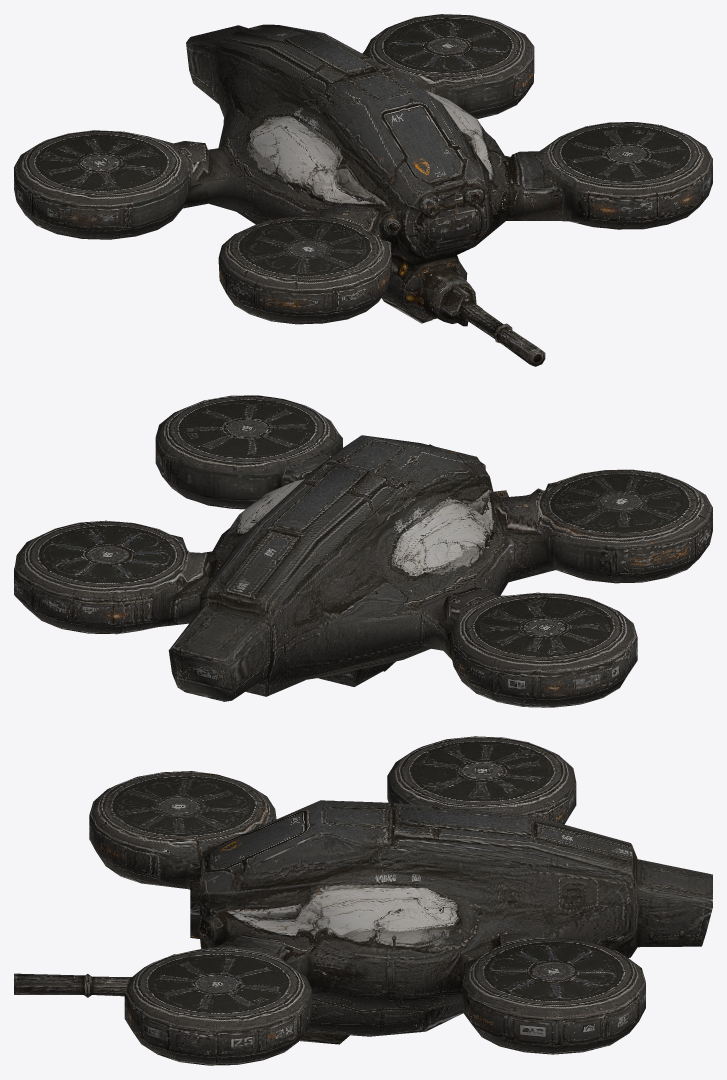
File: Drone.fbx
3 renders of one model, top to bottom at view 1: azimuth 30°, elevation 25°; view 2: azimuth 150°, elevation 25°; view 3: azimuth 270°, elevation 25°, orthographic. The views are drawn at different scales.
Parts seen in each view (by area): view 1: tripo_node_d5fb1a4f; view 2: tripo_node_d5fb1a4f; view 3: tripo_node_d5fb1a4f.
Boxes of the visible parts, <box> form: tripo_node_d5fb1a4f: <box>14,14,712,366</box>; tripo_node_d5fb1a4f: <box>14,395,712,707</box>; tripo_node_d5fb1a4f: <box>14,736,712,1065</box>.
Bounding box in the file's own units: 98.63 × 99.8 × 36.13.
1 material, 1 textured.
